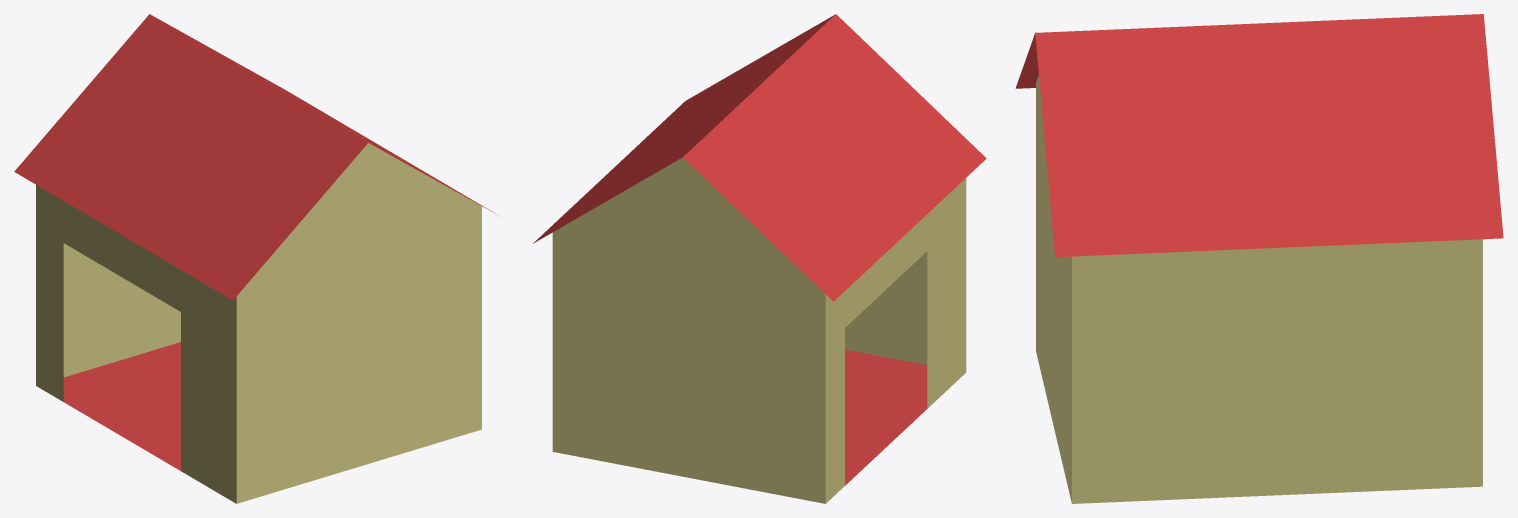
The picture shows the model from 3 angles, left to right: view 1: azimuth 30°, elevation 25°; view 2: azimuth 150°, elevation 25°; view 3: azimuth 270°, elevation 25°; orthographic projection. The views are drawn at different scales.
Size of the model in its own units: 11.74 by 12.93 by 11.56.
